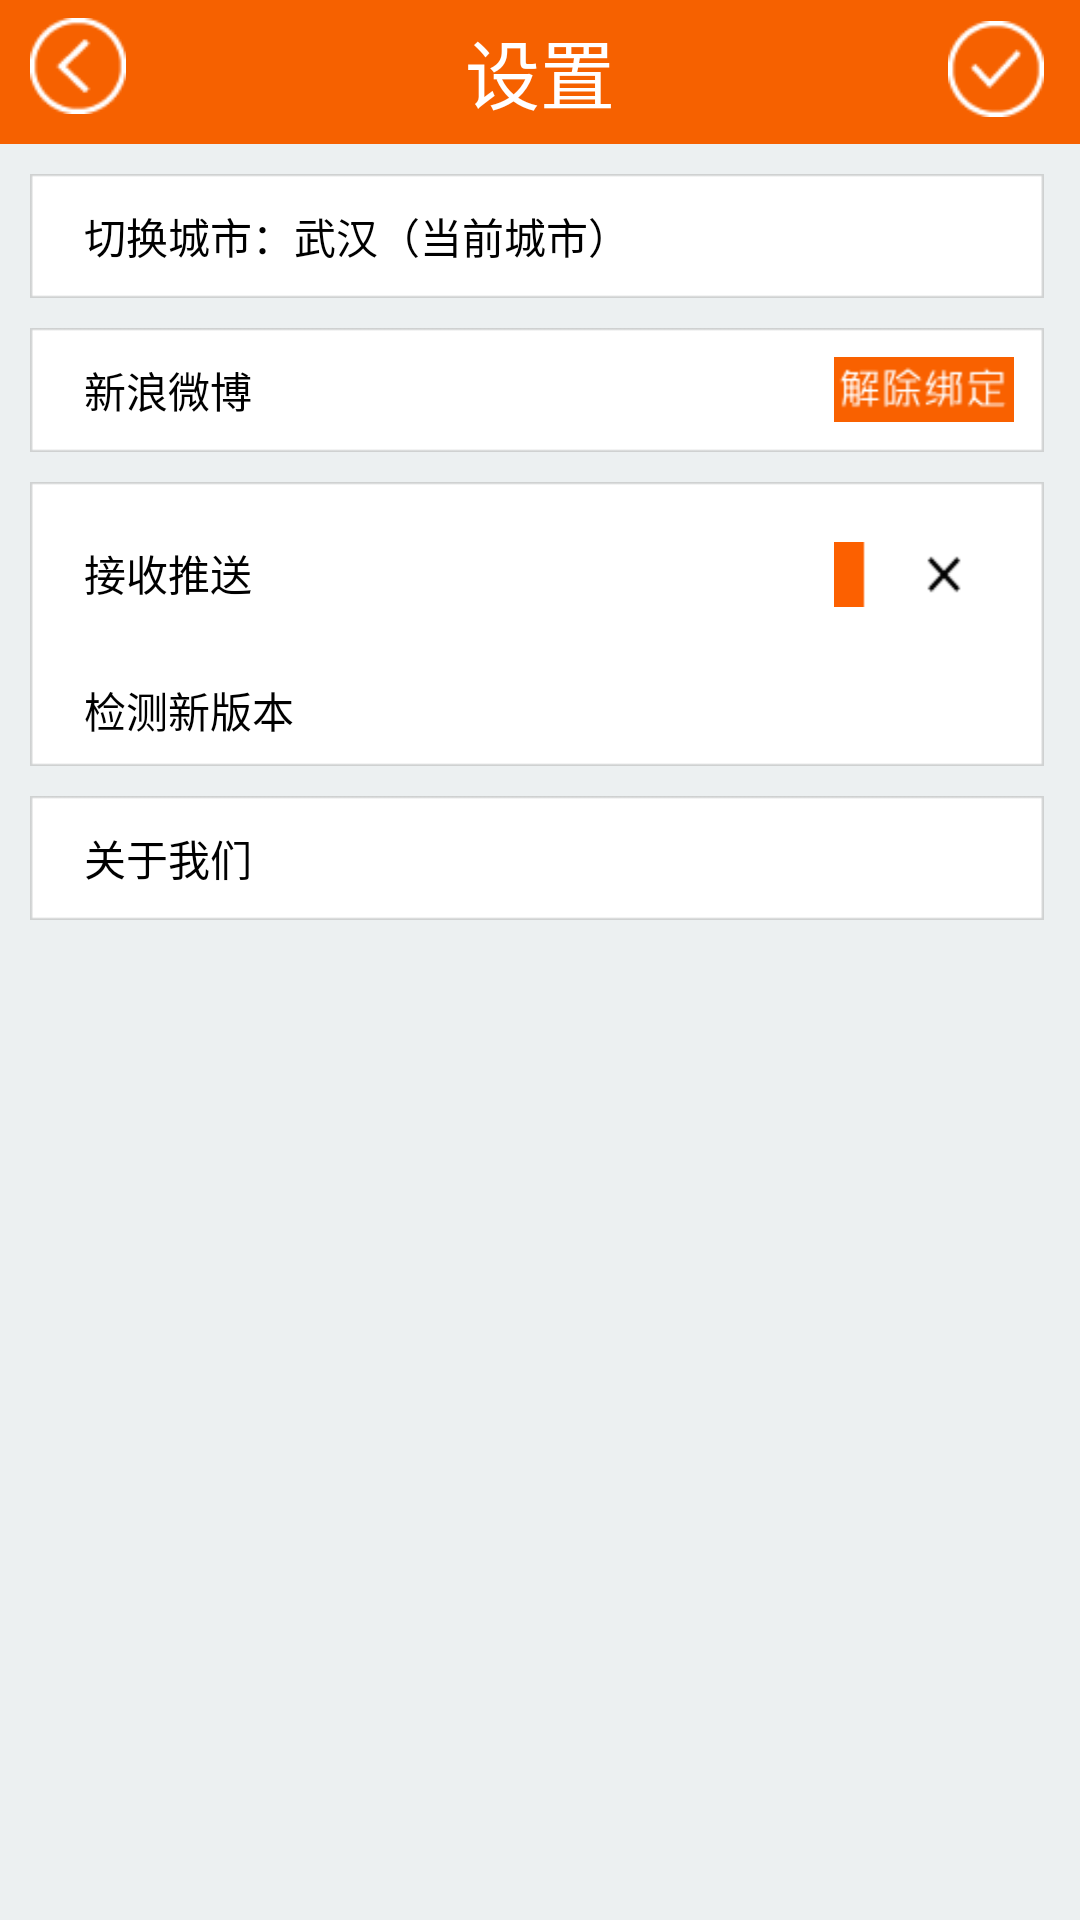

Locate icon controls on the screen. Image size 1080x1920, boxes as {"left": x1, "top": y1, "right": x2, "bottom": y2}.
setting done: {"left": 948, "top": 21, "right": 1044, "bottom": 117}
title back: {"left": 30, "top": 18, "right": 126, "bottom": 114}
